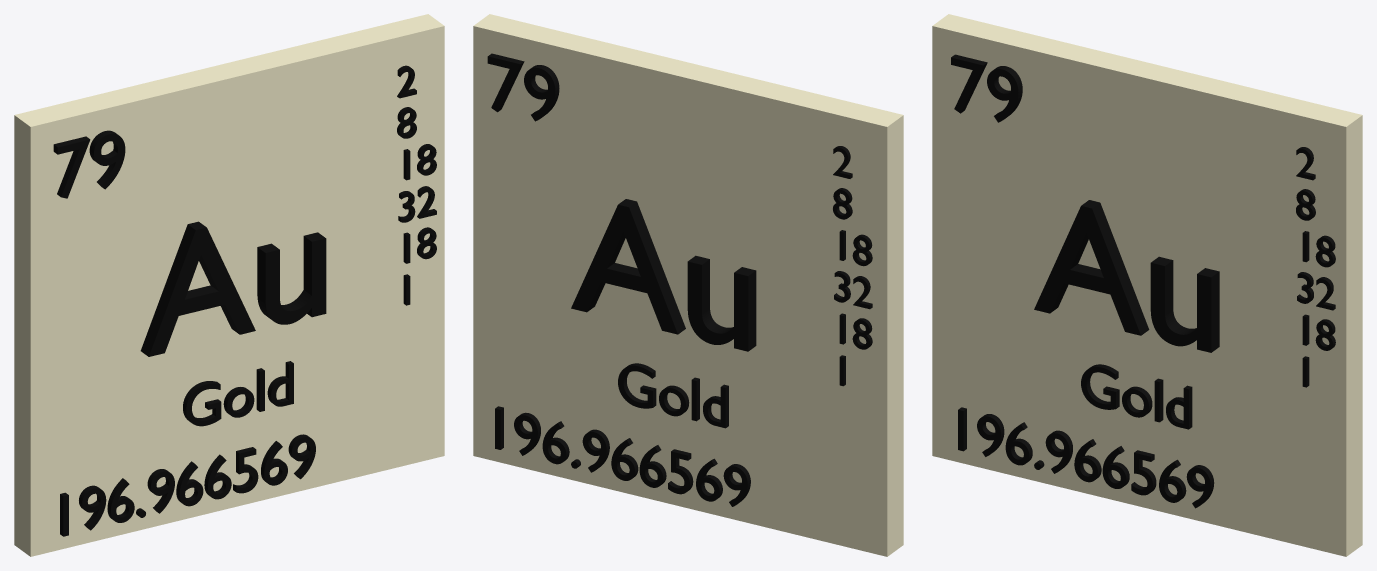
File: goldText_01.fbx
3 views of the same model, side by side, from view 1: azimuth 30°, elevation 25°; view 2: azimuth 150°, elevation 25°; view 3: azimuth 330°, elevation 25° (orthographic).
Parts seen in each view (by area): view 1: Text.029; view 2: Text.029; view 3: Text.029.
Part boxes in pixels (box(x1,y1,x2,y2)): Text.029: box(14, 14, 444, 556); Text.029: box(473, 14, 903, 556); Text.029: box(932, 14, 1362, 556).
Bounding box in the file's own units: 26.38 × 26.18 × 3.6.
